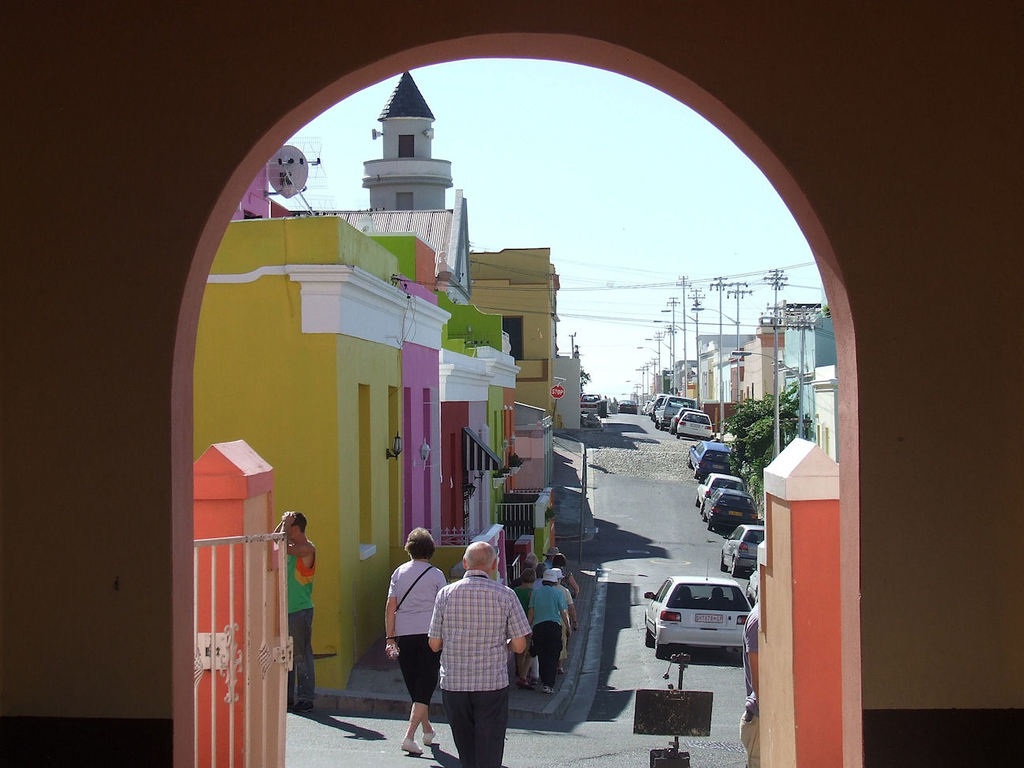Footwear: (420, 724, 438, 746), (401, 739, 423, 753), (297, 699, 316, 710), (542, 684, 557, 695), (518, 676, 530, 689), (557, 665, 567, 676)
